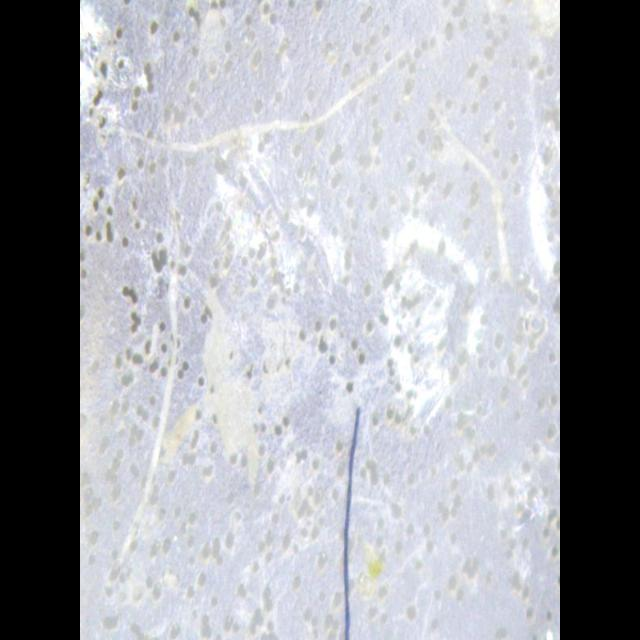Fibre: (336, 399, 364, 640)
